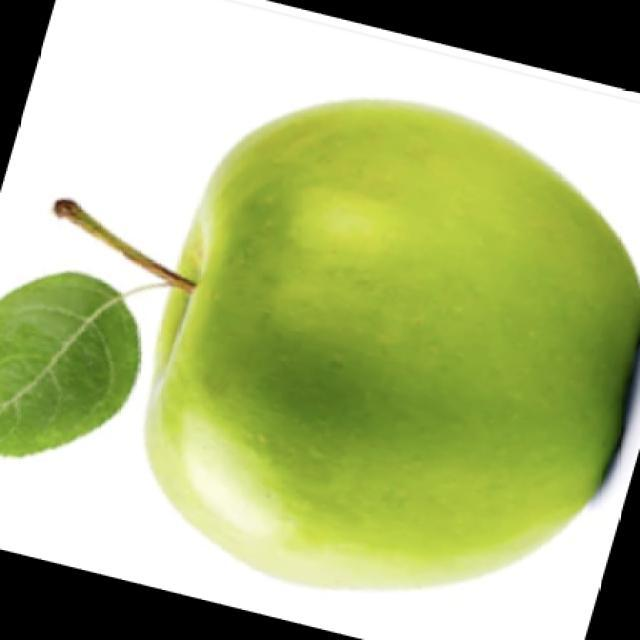Apple: (53, 96, 639, 591)
